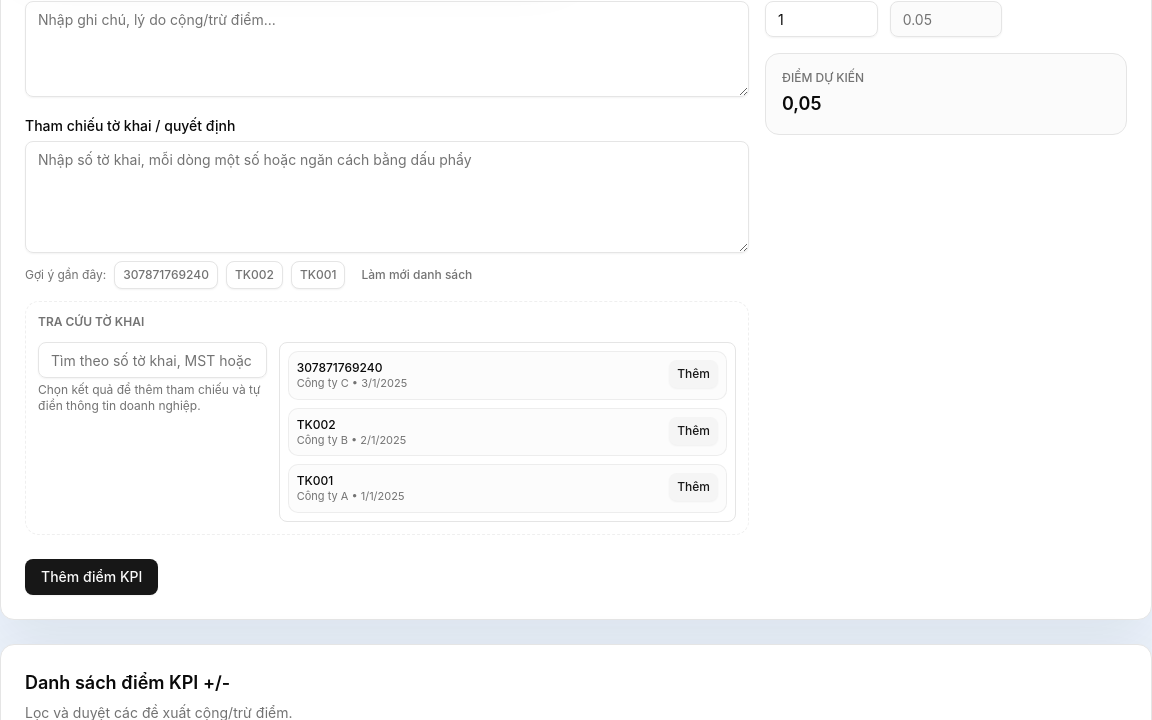
Test: KPIAdjustments UI › tra cuu duoc to khai 12 chu so tu file ECUS va them vao tham chieu
(page scrolled)
Step 1. Type "307871769240" into the field with placeholder "Tìm theo số tờ khai, MST hoặc tên công ty" → (152, 360), box [38,342,267,378]
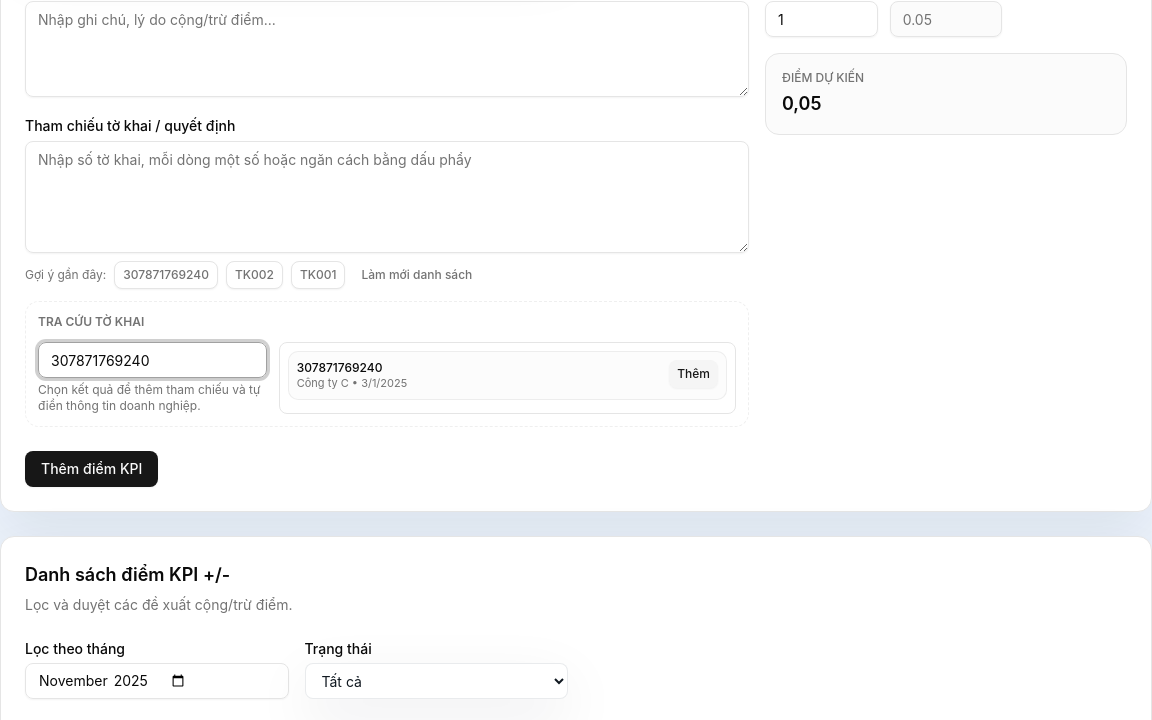
Expected: the element showing "307871769240 Công ty C • 3/1/2025 Thêm" is shown, [288,351,727,400]
Step 2. Click the button "Thêm" → (694, 374), box [669,360,718,388]
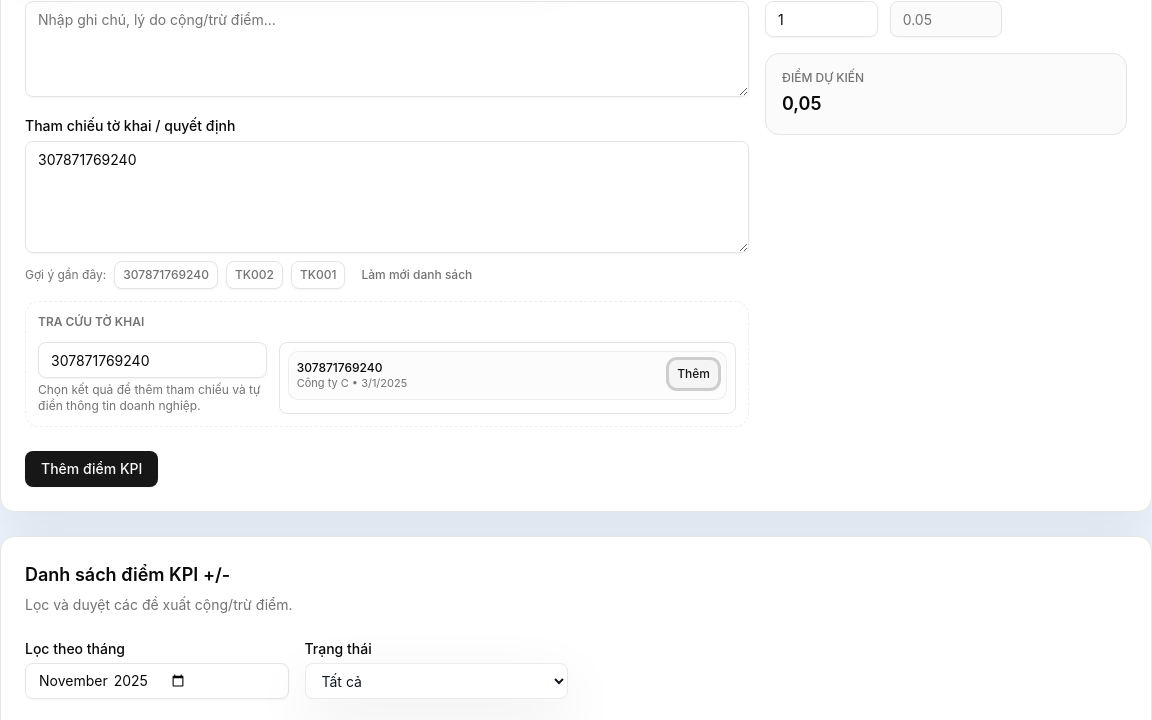
Result: the text box labelled "Tham chiếu tờ khai / quyết định" holds "307871769240" at [25,141,749,253]
